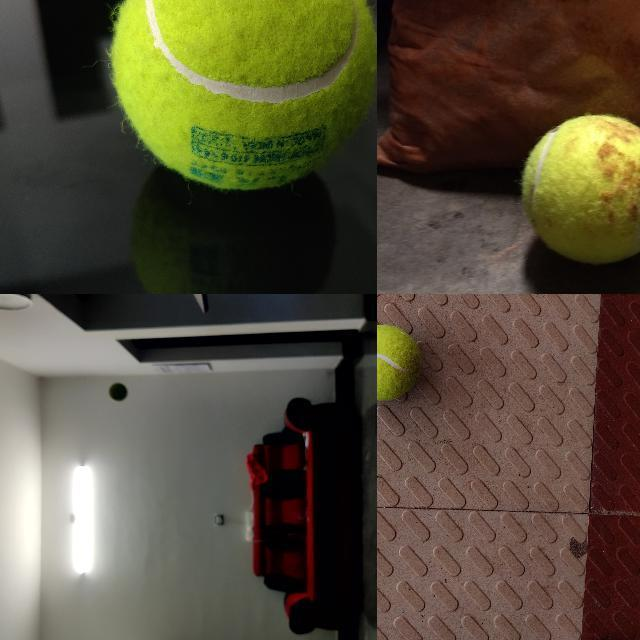tennis-ball: (108, 0, 376, 192), (519, 113, 639, 265), (377, 324, 421, 401), (109, 382, 128, 402)
